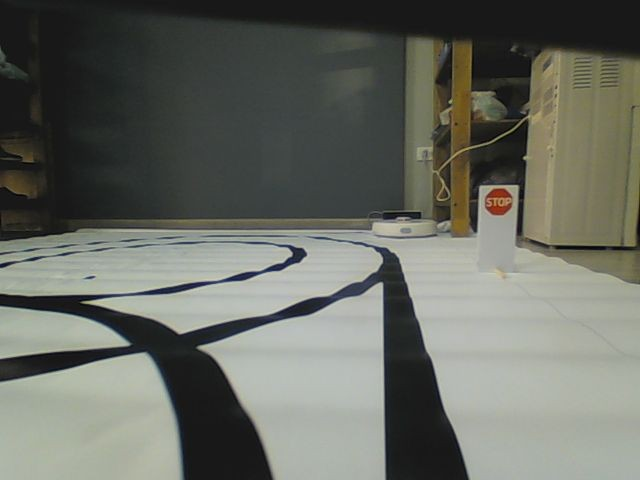Stop: (483, 186, 512, 216)
